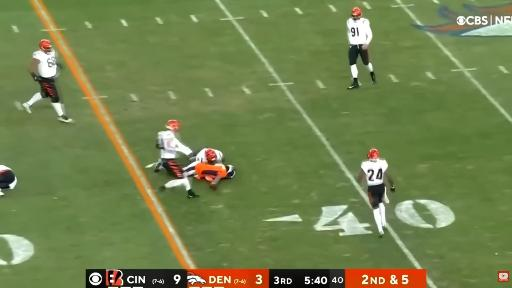Helmet: (166, 120, 179, 132), (39, 40, 51, 52), (205, 149, 216, 161), (368, 149, 379, 160)
Jersey: (158, 131, 192, 159), (362, 160, 388, 186), (347, 18, 372, 45), (33, 50, 57, 78), (195, 163, 227, 180), (0, 165, 17, 189), (196, 149, 207, 162), (0, 165, 11, 172)
Player: (23, 40, 72, 122), (156, 120, 197, 198), (358, 149, 394, 237), (347, 8, 375, 89), (183, 149, 223, 176), (195, 162, 235, 189), (0, 165, 17, 196), (194, 148, 223, 162)
